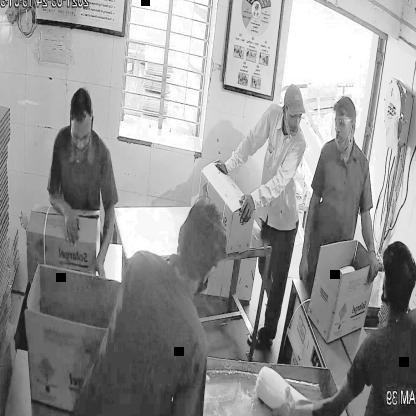goggles: (68, 128, 92, 149), (332, 115, 357, 133)
no_goggles: (285, 109, 304, 125)
